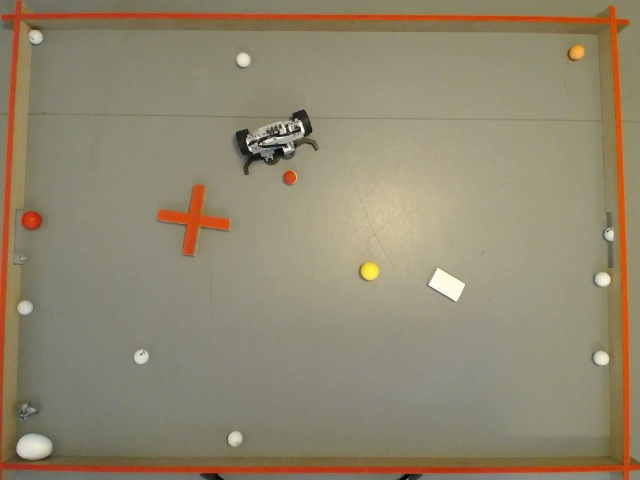big_goal: (14, 207, 22, 264), (606, 212, 614, 267)
cross: (158, 183, 230, 255)
egg: (18, 435, 50, 458)
orange: (570, 45, 584, 57)
robot: (233, 108, 320, 173)
wall: (16, 29, 608, 455)
white: (18, 300, 32, 312), (228, 431, 241, 443), (594, 351, 607, 363), (236, 54, 248, 66), (134, 348, 146, 360), (596, 273, 608, 284), (28, 32, 40, 42), (607, 225, 611, 237)
